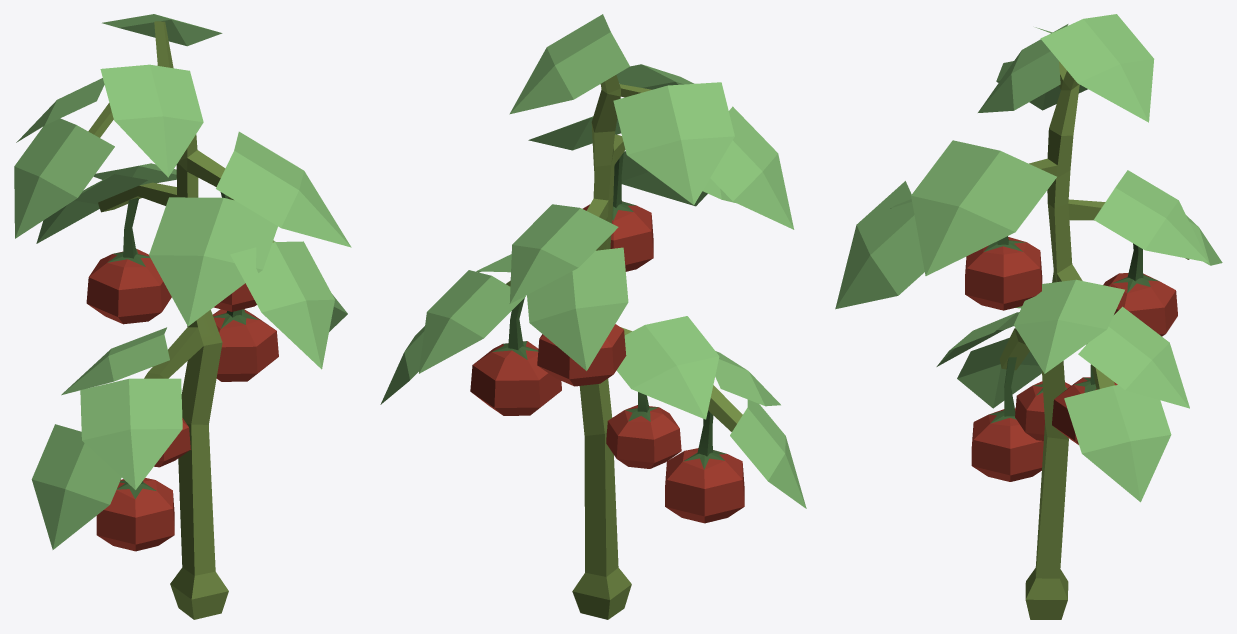
Rendered from farm-tomato.glb.
3 renders of one model, left to right at view 1: azimuth 30°, elevation 25°; view 2: azimuth 150°, elevation 25°; view 3: azimuth 270°, elevation 25°, orthographic. The views are drawn at different scales.
Parts seen in each view (by area): view 1: farm-tomato; view 2: farm-tomato; view 3: farm-tomato.
Part boxes in pixels (x1=…): farm-tomato: x1=14, y1=14, x2=351, y2=619; farm-tomato: x1=380, y1=14, x2=806, y2=619; farm-tomato: x1=835, y1=14, x2=1222, y2=619.
Size of the model in its own units: 0.6271 by 0.9888 by 0.5972.
Materials: 2 (1 with a texture image).
